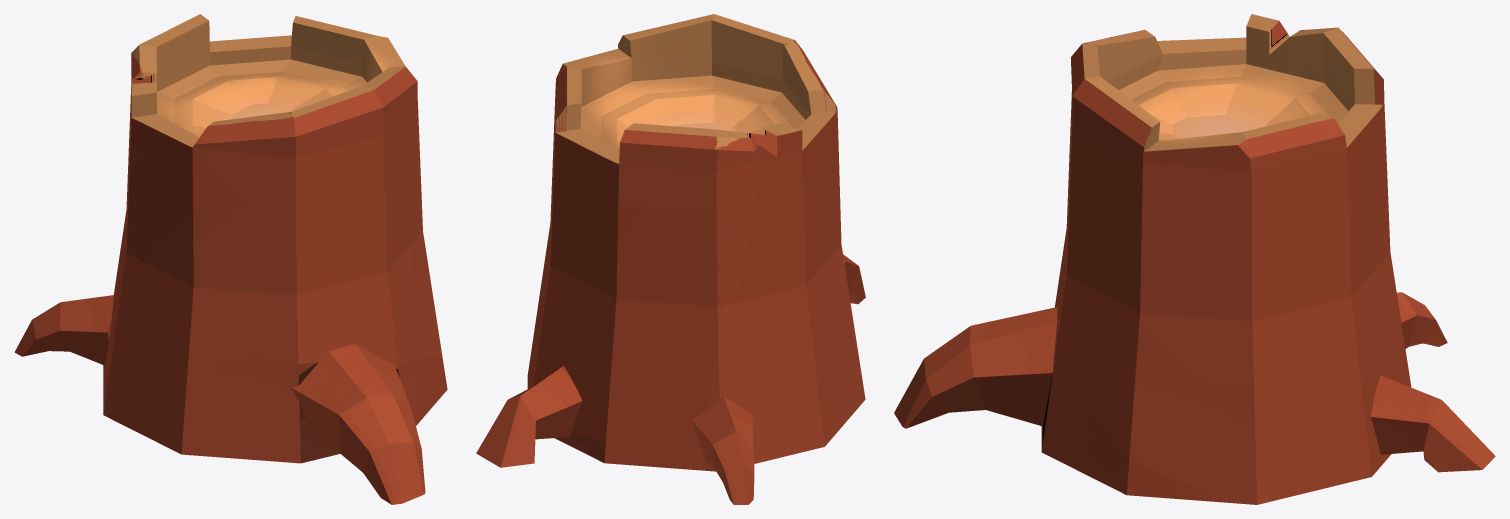
File: Stump.fbx
3 views of the same model, side by side, from view 1: azimuth 30°, elevation 25°; view 2: azimuth 150°, elevation 25°; view 3: azimuth 270°, elevation 25° (orthographic). The views are drawn at different scales.
Visible parts, largest first — view 1: Stump; view 2: Stump; view 3: Stump.
Part boxes in pixels (x1=…): Stump: x1=14, y1=14, x2=447, y2=504; Stump: x1=476, y1=14, x2=865, y2=504; Stump: x1=894, y1=14, x2=1495, y2=504.
Size of the model in its own units: 244 by 255 by 379.
